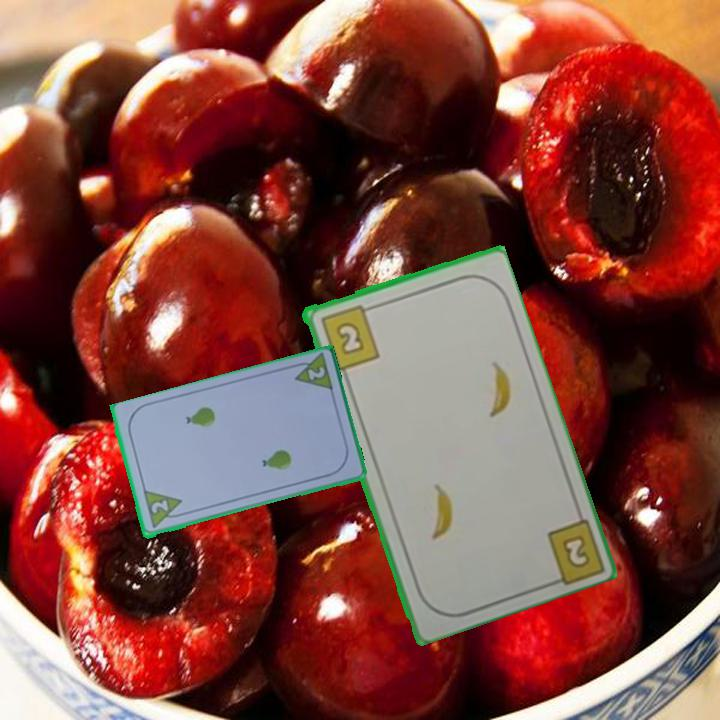2b: (316, 300, 382, 373), (558, 531, 593, 571)
2p: (140, 488, 187, 532), (304, 363, 328, 383)
